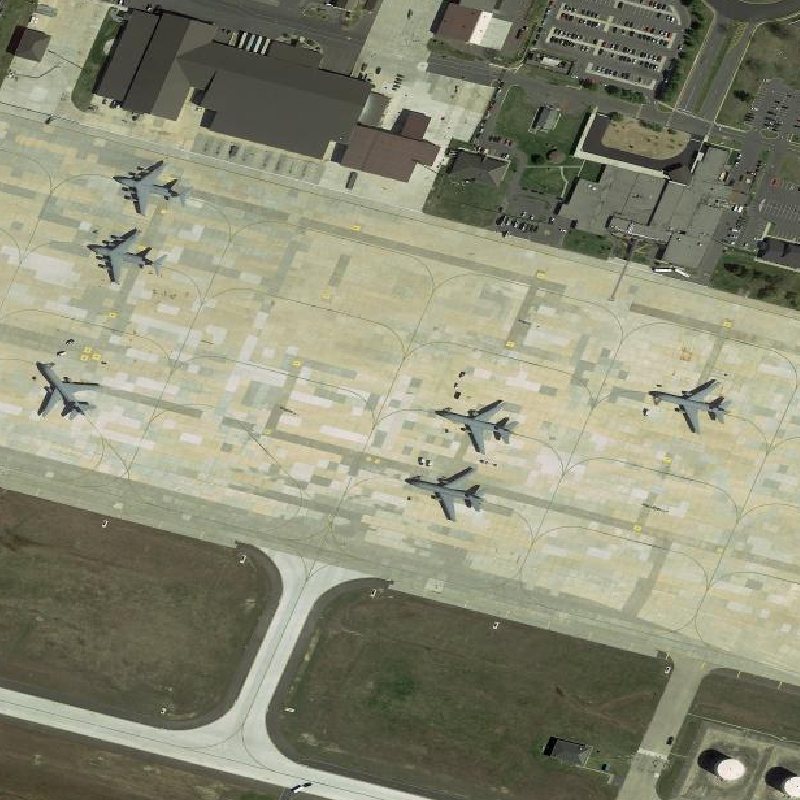A3: (83, 227, 171, 289), (108, 159, 196, 217)
A4: (432, 396, 522, 458), (648, 376, 738, 436), (399, 463, 488, 522), (32, 357, 103, 425)
